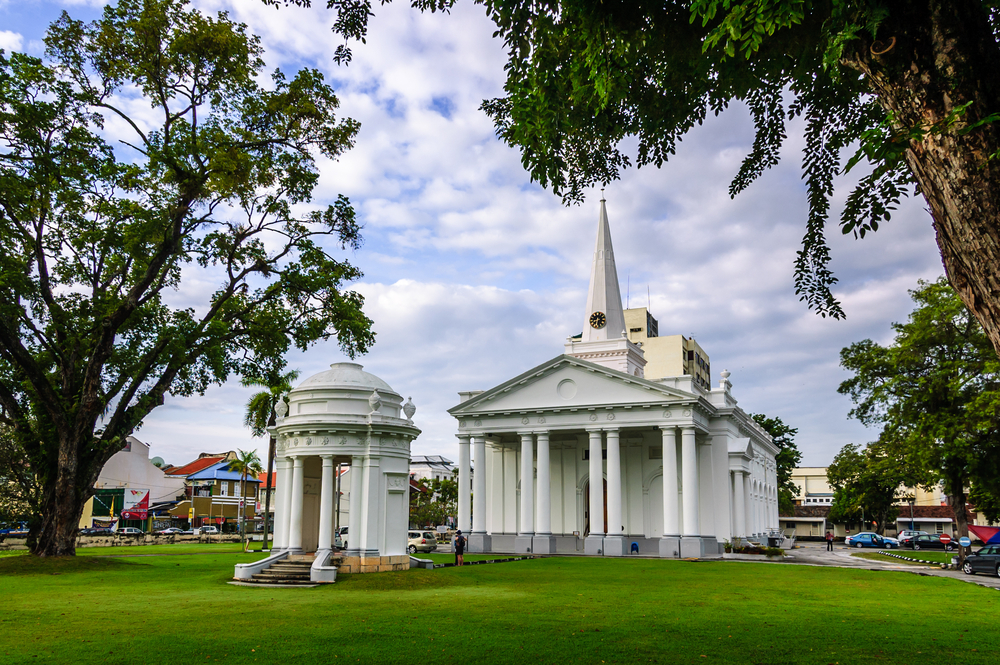Church: (441, 193, 764, 555)
